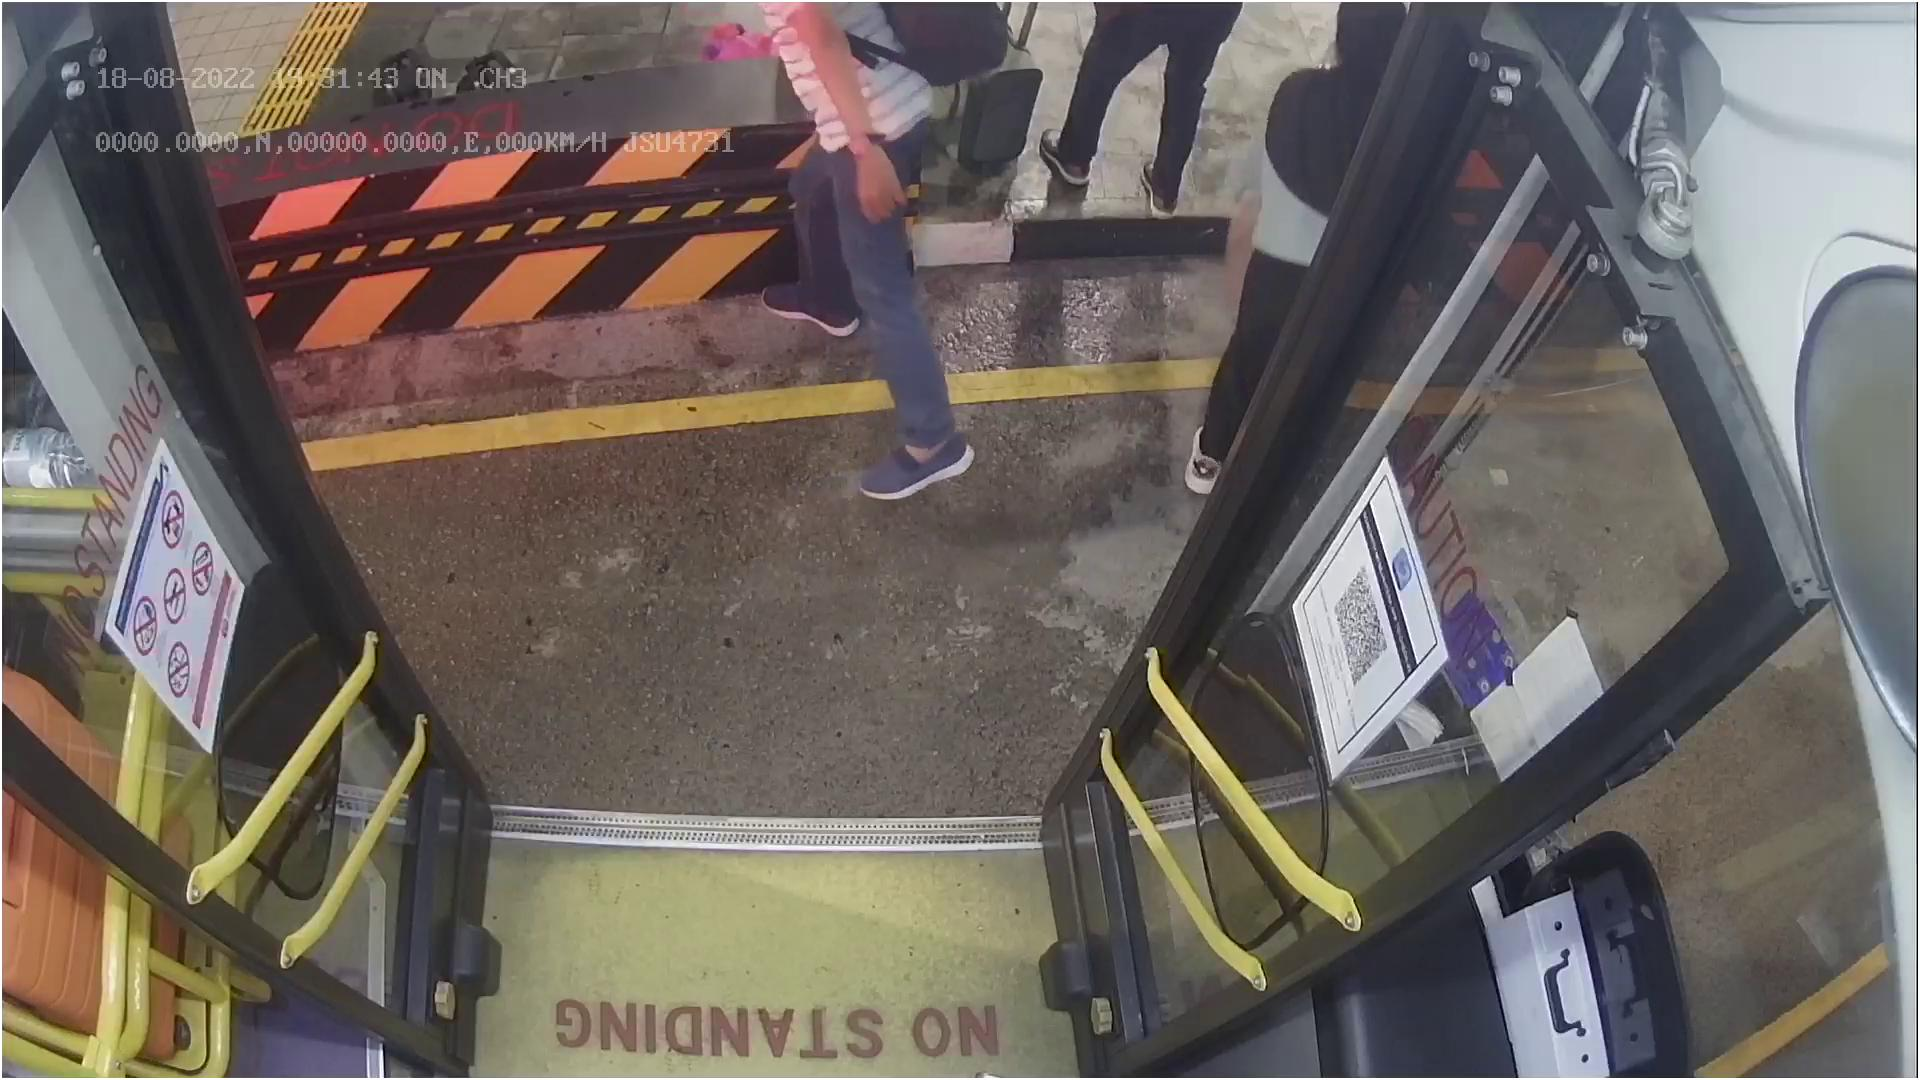open: (128, 0, 1382, 160)
